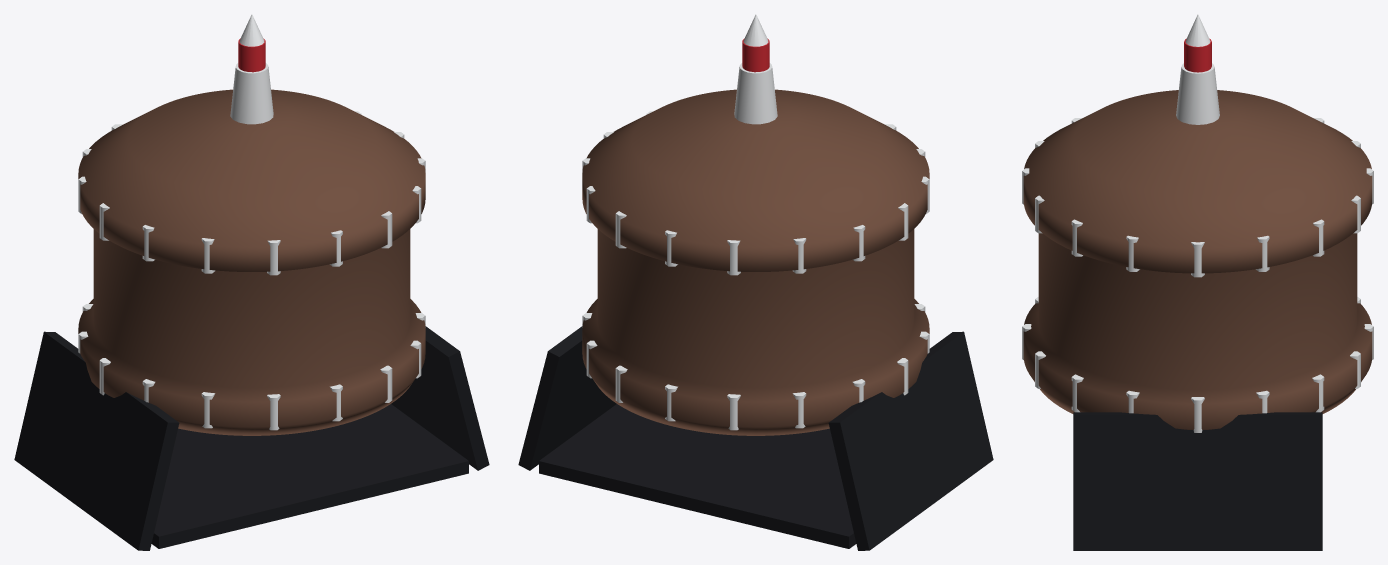
The picture shows the model from 3 angles, left to right: view 1: azimuth 30°, elevation 25°; view 2: azimuth 150°, elevation 25°; view 3: azimuth 270°, elevation 25°; orthographic projection.
Parts seen in each view (by area): view 1: BF-20; view 2: BF-20; view 3: BF-20.
Boxes of the visible parts, x1,y1,x2,y2 form: BF-20: [14, 14, 489, 550]; BF-20: [518, 14, 993, 550]; BF-20: [1022, 14, 1373, 550].
Size of the model in its own units: 0.2944 by 0.362 by 0.254.
